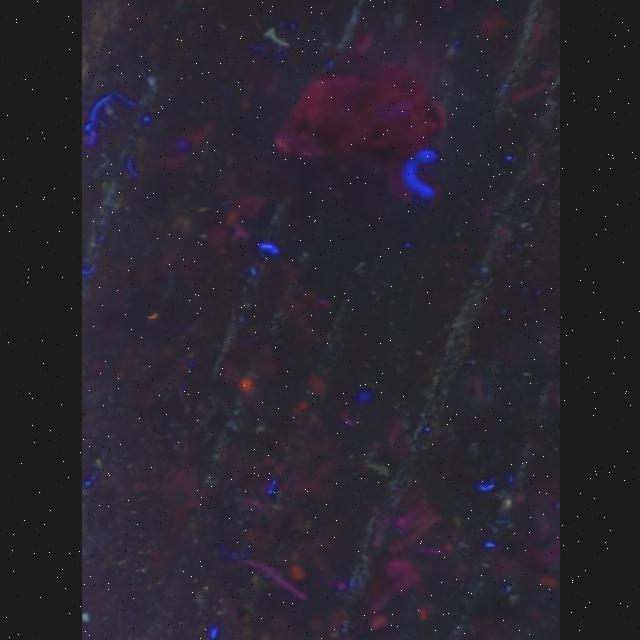microbeads: (80, 610, 90, 624)
